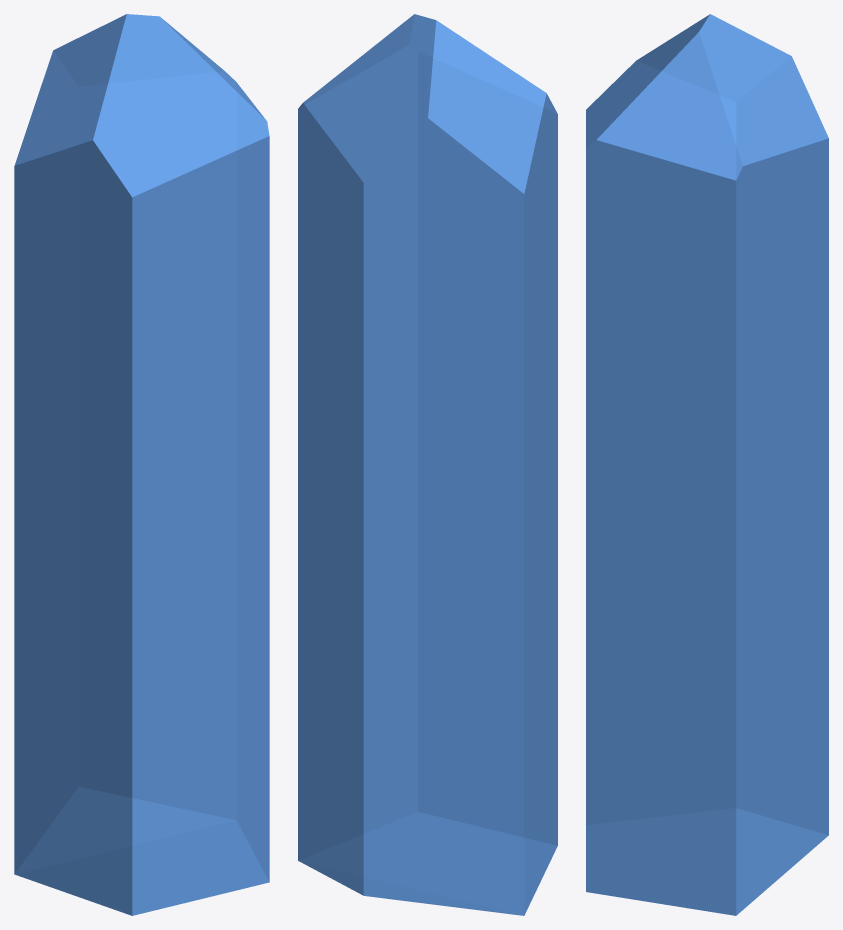
The model's file is Crystal_s_03.fbx.
3 renders of one model, left to right at view 1: azimuth 30°, elevation 25°; view 2: azimuth 150°, elevation 25°; view 3: azimuth 270°, elevation 25°, orthographic. The views are drawn at different scales.
Visible parts, largest first — view 1: Crystal_s_03; view 2: Crystal_s_03; view 3: Crystal_s_03.
Boxes of the visible parts, left/top/right/bottom form: Crystal_s_03: left=14, top=14, right=269, bottom=915; Crystal_s_03: left=298, top=14, right=557, bottom=915; Crystal_s_03: left=586, top=14, right=828, bottom=915.
Size of the model in its own units: 0.1921 by 0.699 by 0.1827.
